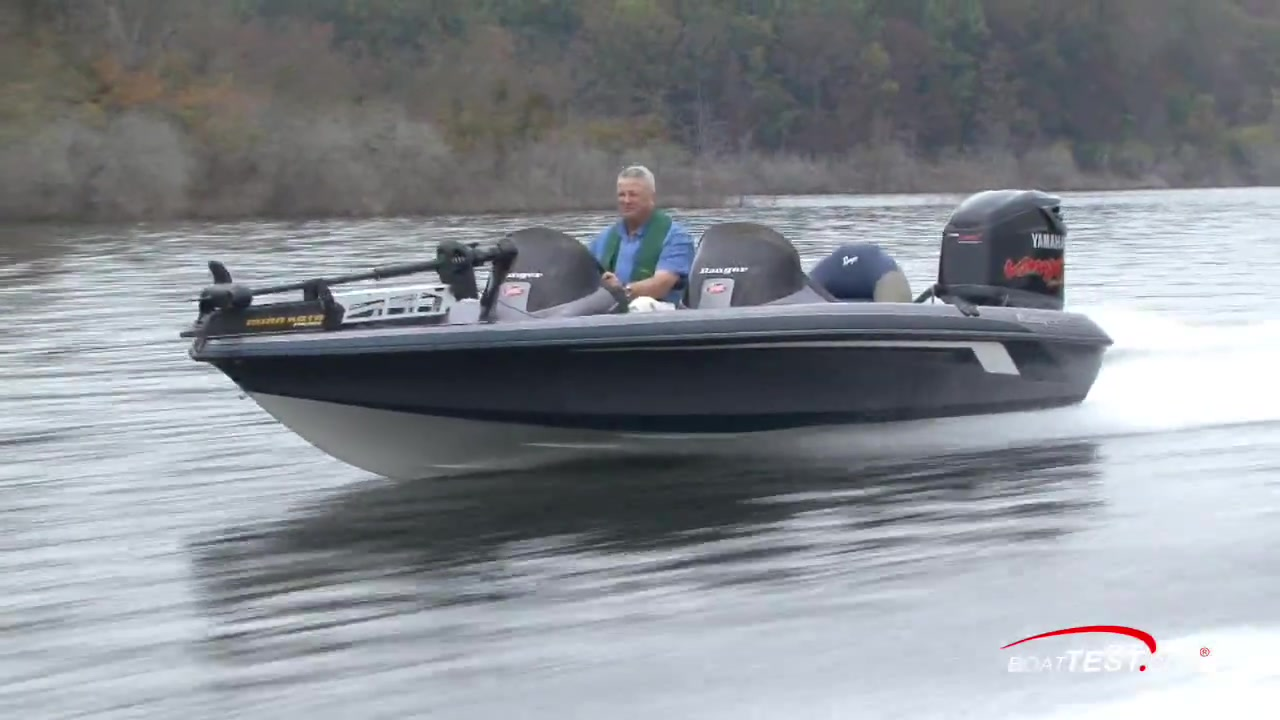boat: (180, 186, 1113, 484)
